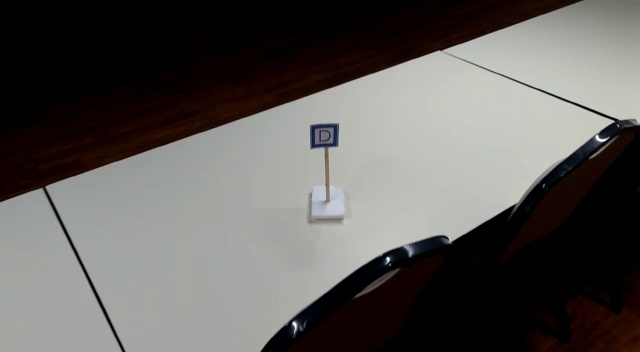durak: (309, 123, 338, 148)
